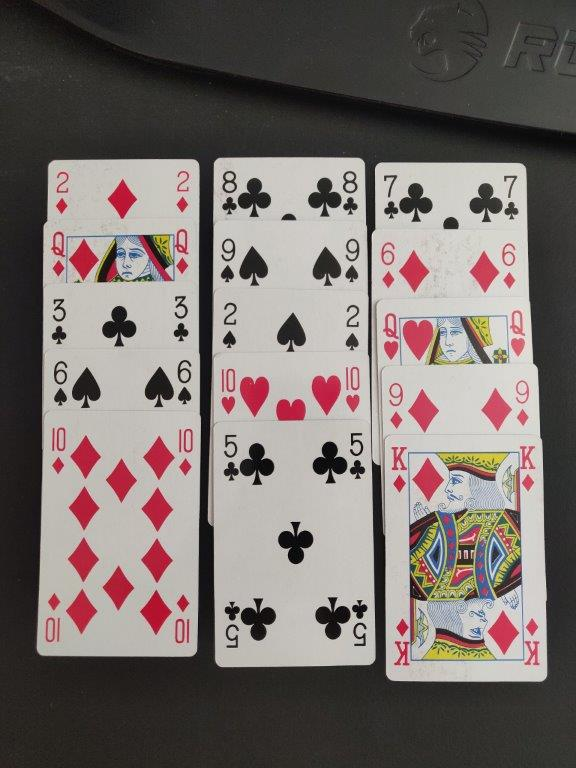10D: (174, 422, 197, 476), (49, 422, 68, 484)
10H: (215, 361, 242, 419), (340, 362, 366, 418)
2D: (49, 170, 76, 217), (169, 166, 194, 213)
2S: (216, 298, 241, 352), (342, 301, 363, 354)
3C: (46, 294, 73, 349), (168, 293, 191, 349)
5C: (217, 428, 245, 488), (347, 428, 368, 482)
6D: (374, 234, 400, 294), (497, 239, 522, 297)
6S: (171, 357, 196, 409), (49, 355, 72, 408)
7C: (378, 170, 403, 223), (500, 172, 521, 224)
8C: (337, 164, 362, 218), (218, 167, 242, 218)
9D: (385, 376, 407, 437), (511, 376, 532, 429)
9S: (341, 233, 364, 289), (218, 232, 239, 285)
KD: (387, 442, 413, 495), (516, 441, 540, 495)
QD: (47, 229, 69, 280), (170, 226, 191, 277)
QH: (379, 310, 404, 366), (504, 306, 530, 359)
